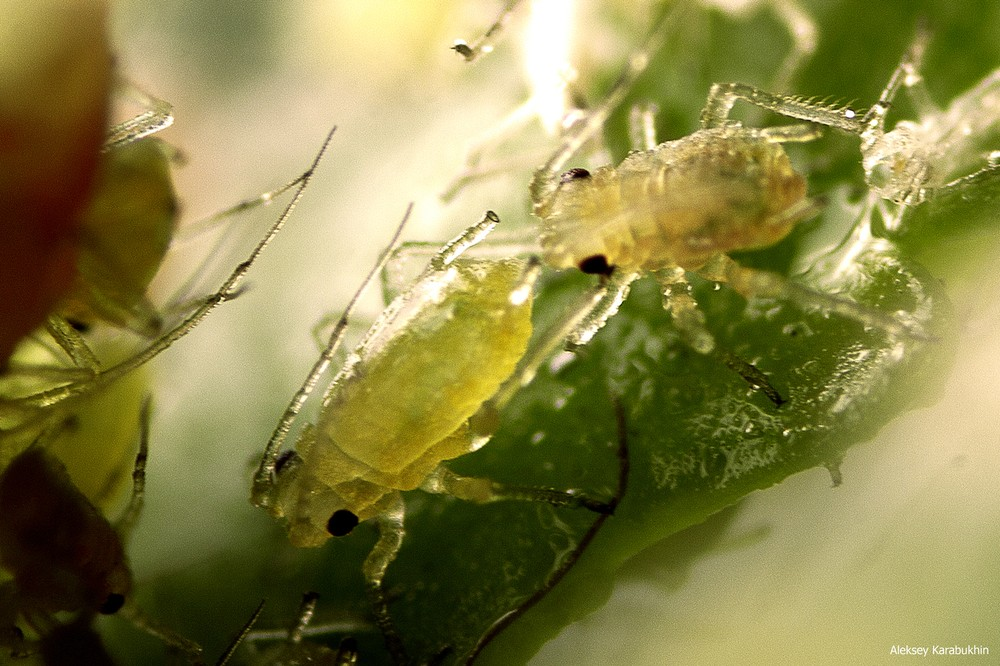Pulgon: (248, 199, 624, 589), (523, 67, 898, 346)
